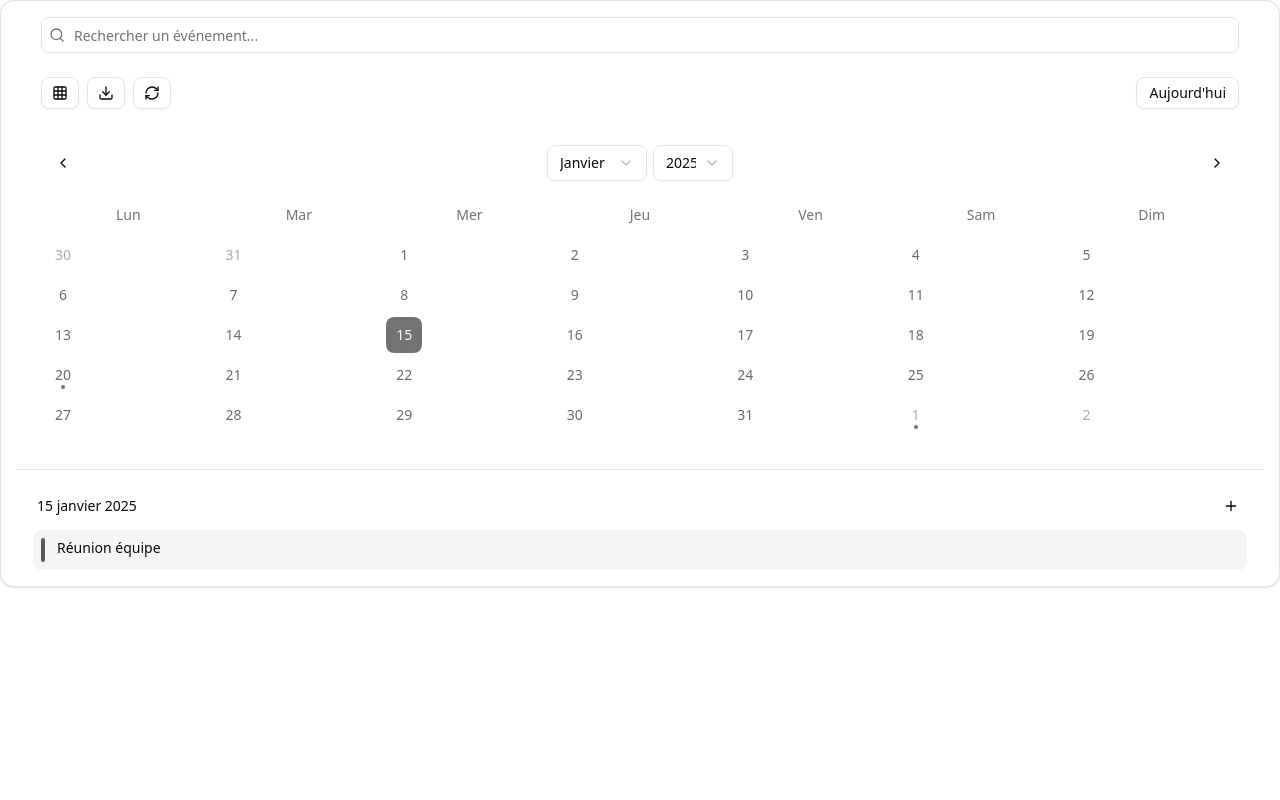
CalendarWidget - Recherche d'événements › filtre les événements par description
Type "important" into the field with placeholder "Rechercher un événement..." at (640, 35), box x1=41 y1=17 x2=1239 y2=53
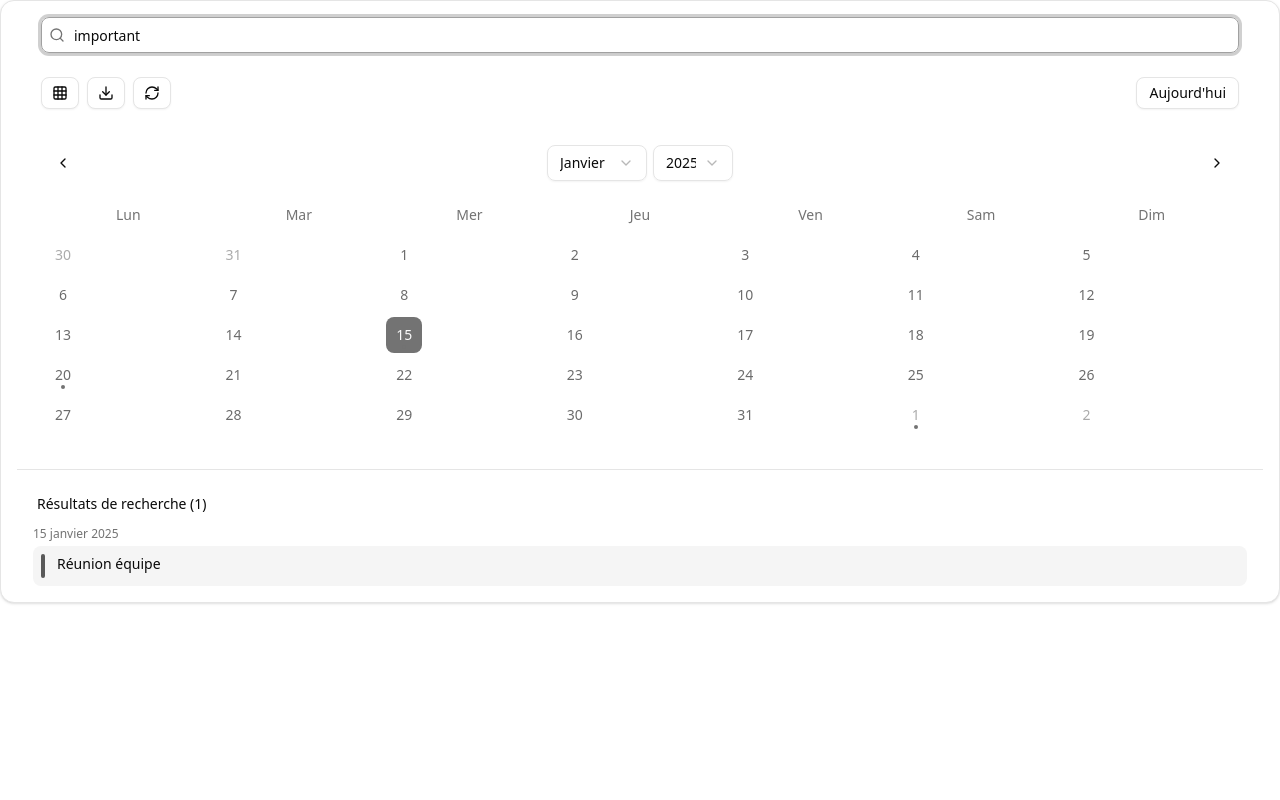
Expected: the text "Réunion équipe" is shown, x1=57 y1=554 x2=161 y2=573
Expected: the text "Résultats de recherche (1)" is shown, x1=37 y1=494 x2=206 y2=514
